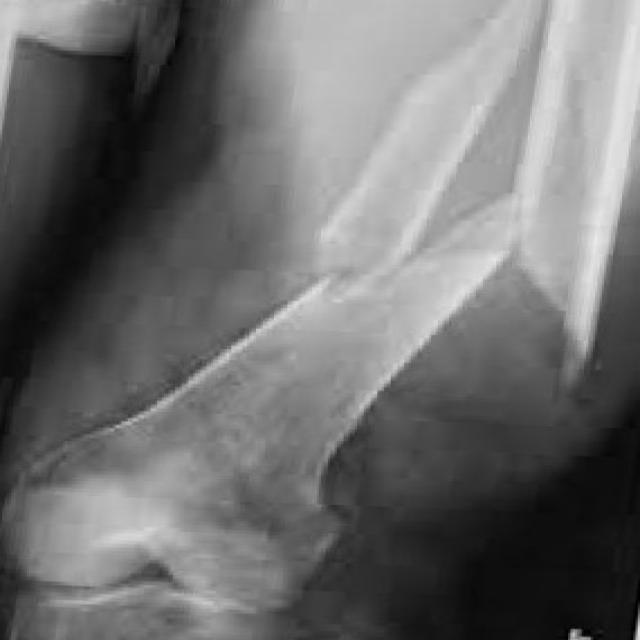comminuted: (207, 160, 628, 472)
